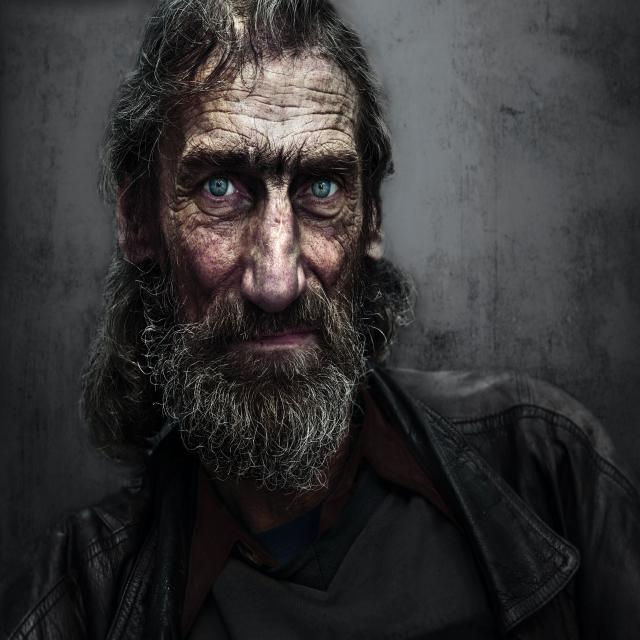wrinkle: (288, 112, 355, 127), (229, 112, 299, 121), (196, 128, 251, 139), (314, 90, 357, 104), (255, 99, 308, 107), (323, 128, 354, 139), (196, 109, 233, 115), (213, 89, 252, 92), (293, 131, 313, 135), (245, 94, 267, 97), (224, 100, 238, 103), (270, 93, 295, 94)
